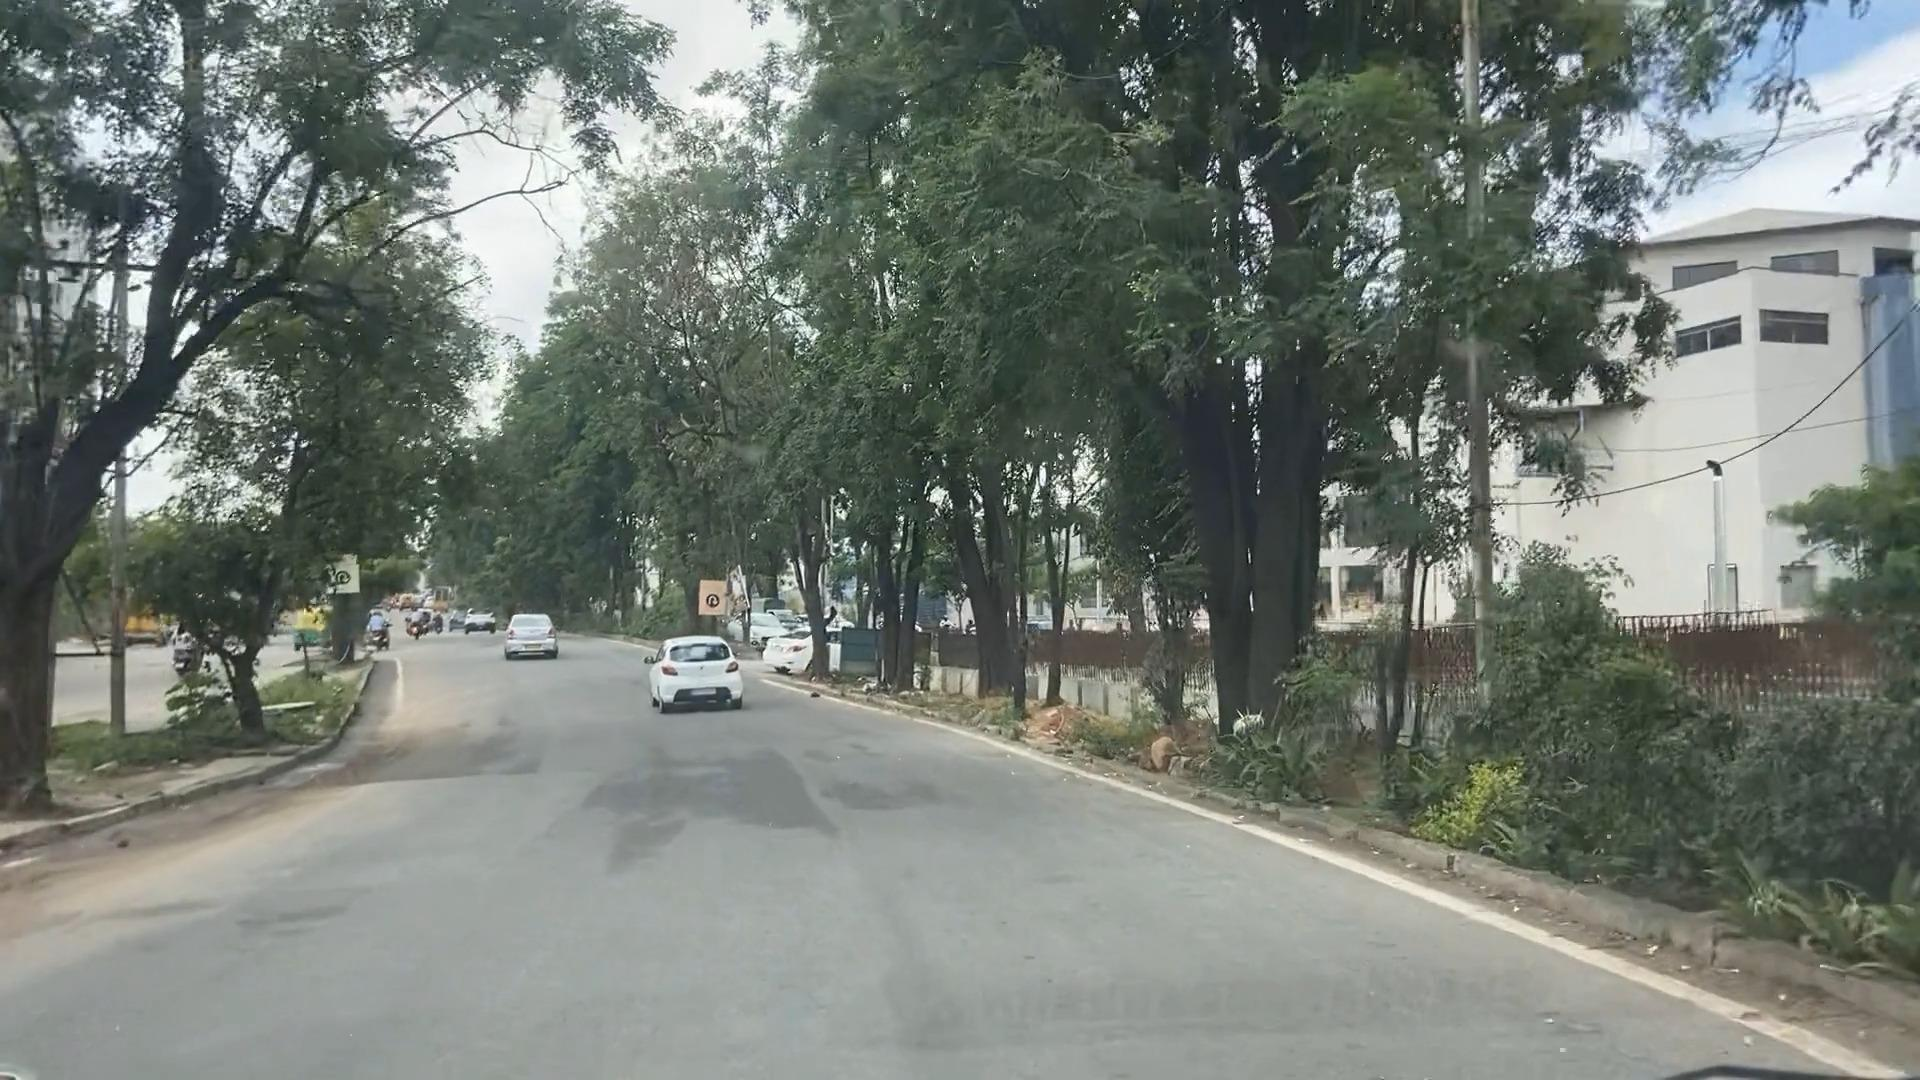LMV: (650, 634, 740, 707), (504, 610, 558, 662)
RoadDamages: (697, 750, 792, 831), (560, 770, 683, 821), (828, 766, 936, 821), (282, 738, 352, 819), (436, 720, 521, 784), (356, 720, 421, 798), (118, 886, 240, 926), (600, 828, 679, 872), (278, 898, 337, 941)
